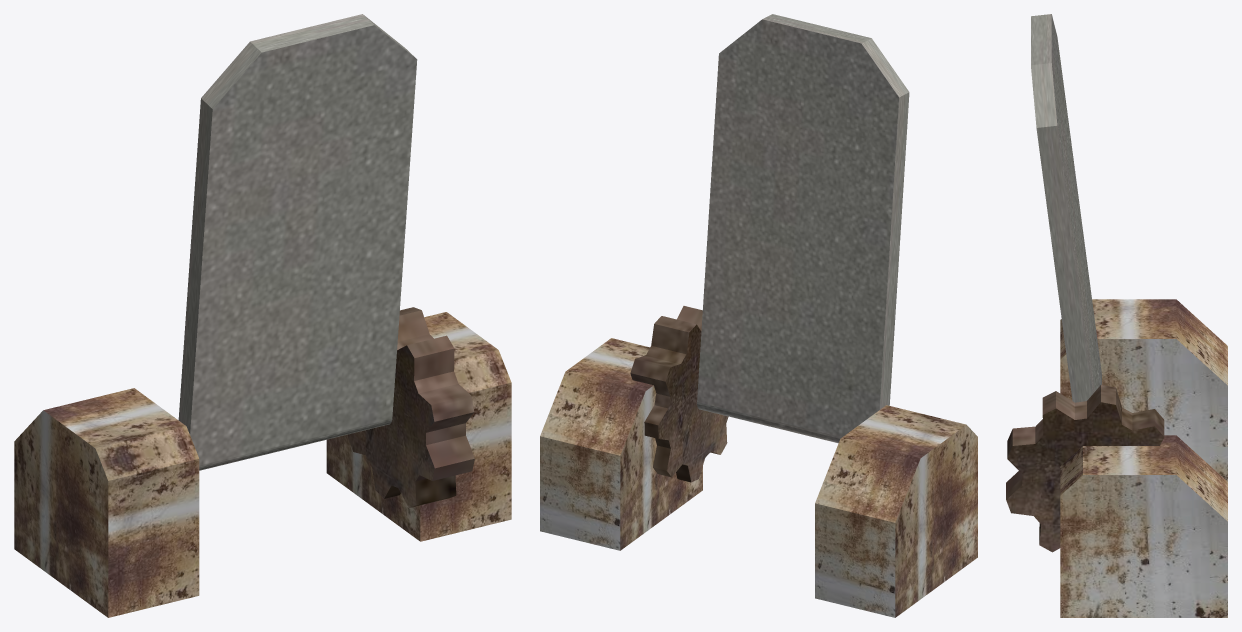
File: bridge.fbx
3 renders of one model, left to right at view 1: azimuth 30°, elevation 25°; view 2: azimuth 150°, elevation 25°; view 3: azimuth 270°, elevation 25°, orthographic. The views are drawn at different scales.
Parts seen in each view (by area): view 1: Bridge, BridgeBox; view 2: Bridge, BridgeBox; view 3: BridgeBox, Bridge.
Boxes of the visible parts, x1,y1,x2,y2 form: Bridge: [178, 14, 474, 507]; BridgeBox: [14, 312, 511, 617]; Bridge: [630, 14, 909, 482]; BridgeBox: [540, 338, 977, 617]; BridgeBox: [1060, 299, 1227, 617]; Bridge: [1006, 14, 1164, 552].
Size of the model in its own units: 394 by 511 by 210.
2 materials, 2 textured.
